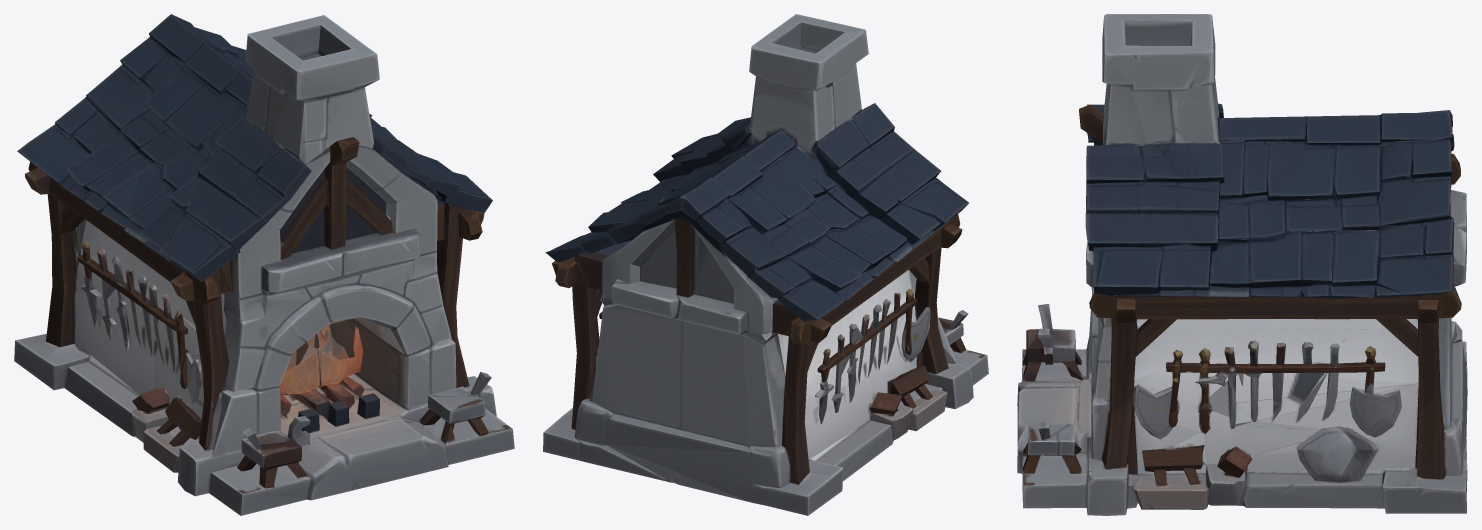
Rendered from forge.glb.
3 renders of one model, left to right at view 1: azimuth 30°, elevation 25°; view 2: azimuth 150°, elevation 25°; view 3: azimuth 270°, elevation 25°, orthographic. The views are drawn at different scales.
Parts seen in each view (by area): view 1: forge; view 2: forge; view 3: forge.
Boxes of the visible parts, left/top/right/bottom form: forge: left=14, top=14, right=514, bottom=515; forge: left=543, top=14, right=988, bottom=515; forge: left=1017, top=14, right=1467, bottom=515.
Bounding box in the file's own units: 5.33 × 6.5 × 6.52.
1 material, 1 textured.
